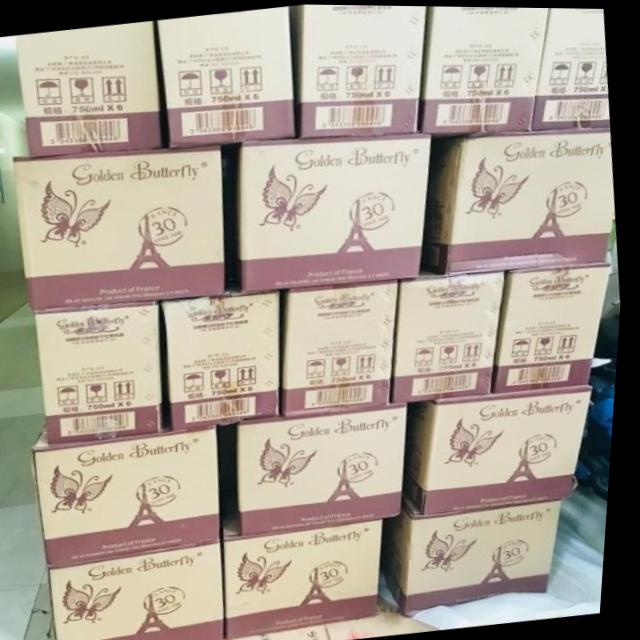box: (14, 142, 226, 308), (243, 130, 431, 289), (39, 418, 228, 573), (427, 125, 611, 270), (408, 378, 594, 512), (388, 488, 566, 615), (246, 402, 412, 534), (156, 5, 297, 147), (18, 21, 167, 152), (38, 297, 169, 442), (232, 517, 388, 638), (288, 4, 429, 136), (58, 539, 232, 640), (160, 287, 283, 428), (389, 264, 510, 399), (286, 280, 402, 415), (420, 5, 547, 127), (496, 261, 615, 389), (532, 6, 610, 126)
